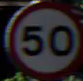Speed limit: (6, 3, 77, 71)
